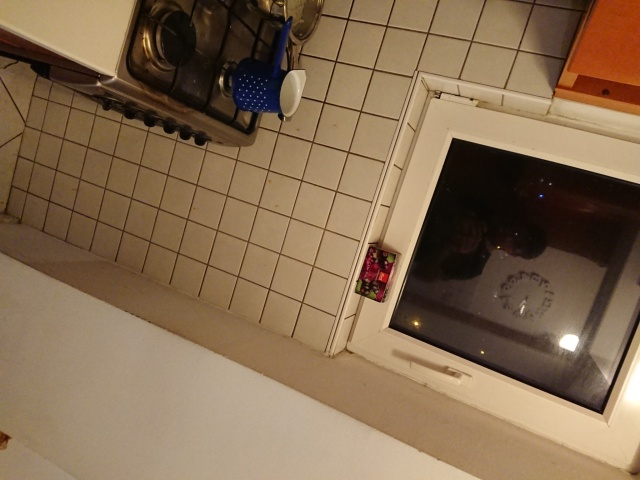Franck Black Currant Tea 60g: (351, 242, 404, 305)
